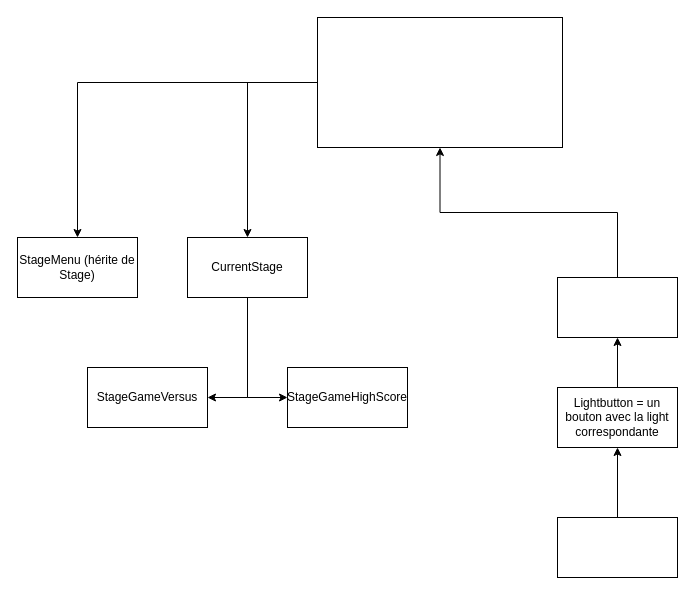
The diagram is 695 pixels wide and 595 high, and some of its shapes have lost their labels. The shapes that lost their labels are listed below. From the top down, each one's centre as x and y in pixels, then its label:
At pixel 439 82: "StageManager".
At pixel 617 307: "Gameboard = Ensemble des lights et des boutons".
At pixel 617 547: "Button = gère le déclenchement de boutons".
